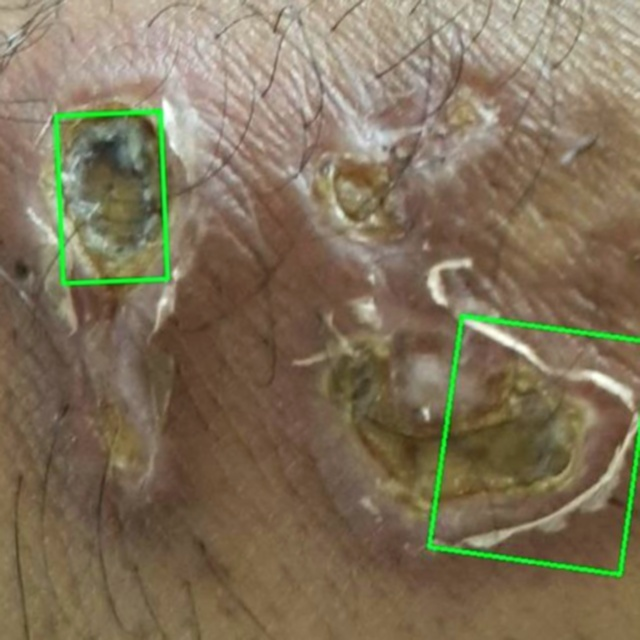Contact Dermatitis: (429, 316, 639, 574), (56, 111, 167, 283)
